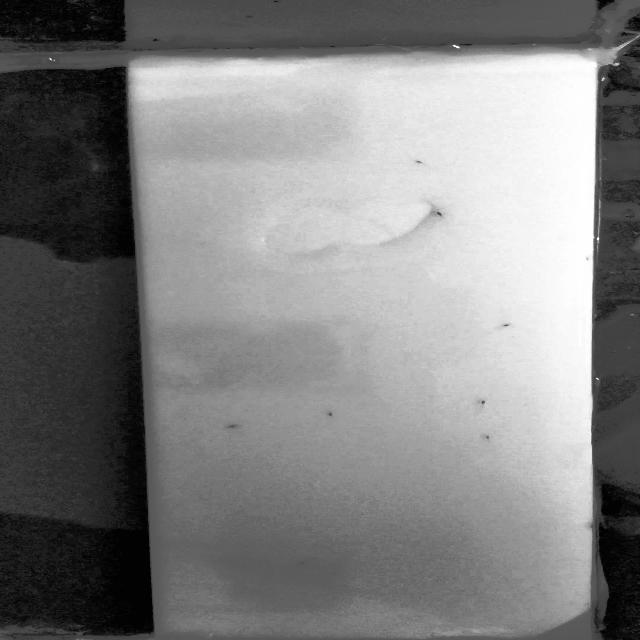shrimp: (290, 556, 321, 569), (493, 318, 518, 332), (410, 157, 435, 171), (430, 205, 447, 220), (322, 410, 345, 420), (480, 434, 499, 446), (222, 422, 248, 430), (473, 399, 492, 409)
